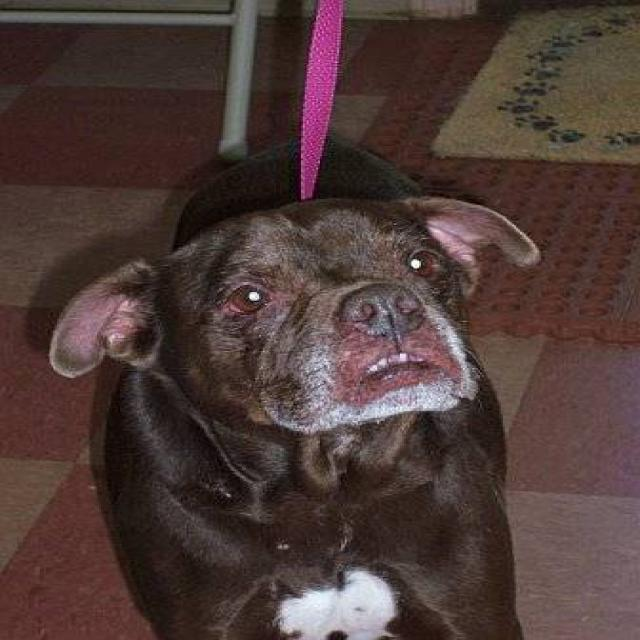dogs: (48, 109, 596, 640)
